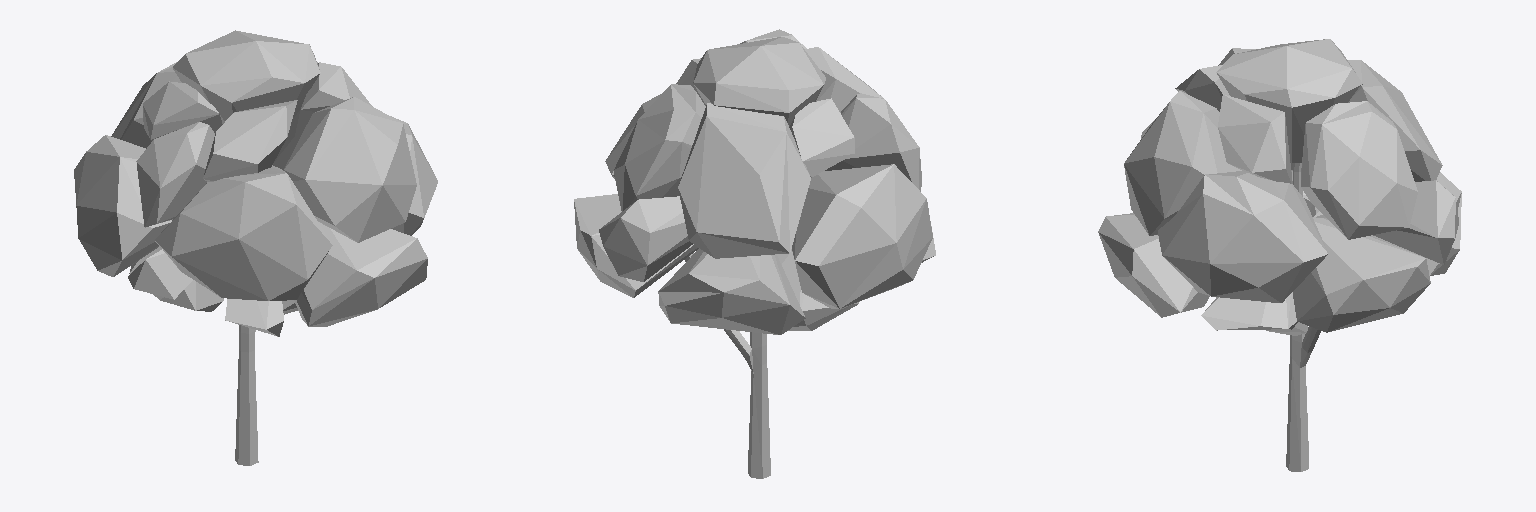
File: Arbol4.obj
3 renders of one model, left to right at view 1: azimuth 30°, elevation 25°; view 2: azimuth 150°, elevation 25°; view 3: azimuth 270°, elevation 25°, orthographic.
Parts seen in each view (by area): view 1: Tree_Type0_06_Model_Circle.004; view 2: Tree_Type0_06_Model_Circle.004; view 3: Tree_Type0_06_Model_Circle.004.
Part boxes in pixels (bbox=[...]): Tree_Type0_06_Model_Circle.004: bbox=[74, 30, 437, 465]; Tree_Type0_06_Model_Circle.004: bbox=[574, 29, 935, 478]; Tree_Type0_06_Model_Circle.004: bbox=[1098, 39, 1461, 471].
Bounding box in the file's own units: 2.52 × 3.26 × 2.54.